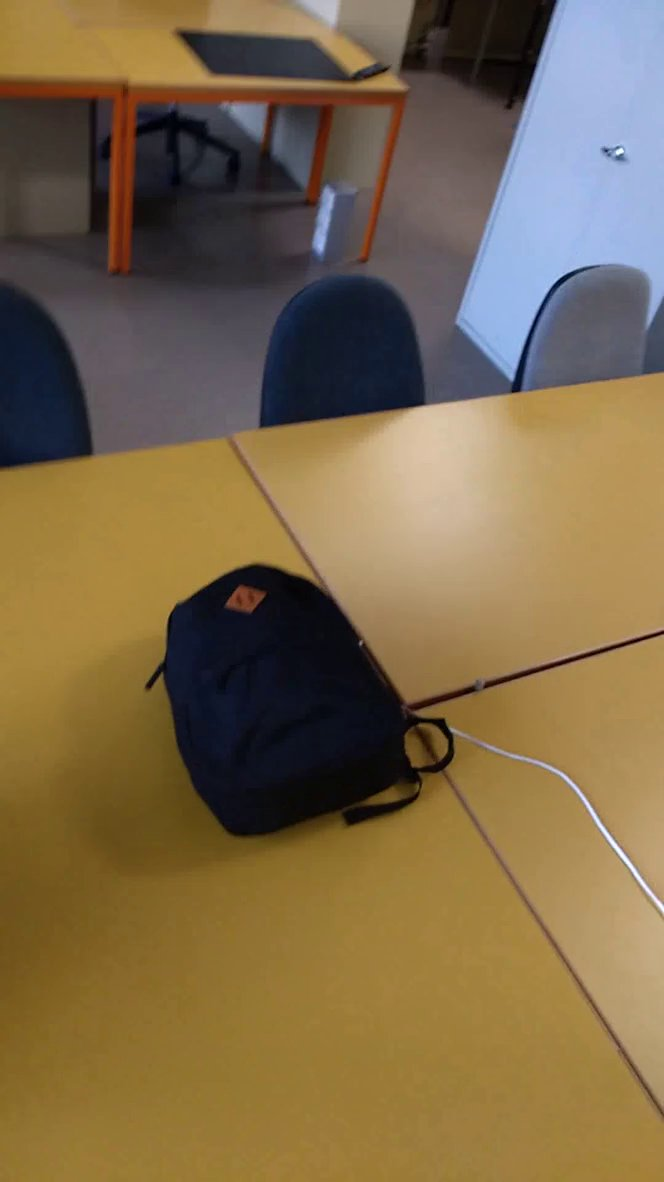bag: (139, 555, 463, 848)
chair: (259, 266, 448, 441), (498, 256, 664, 411)
